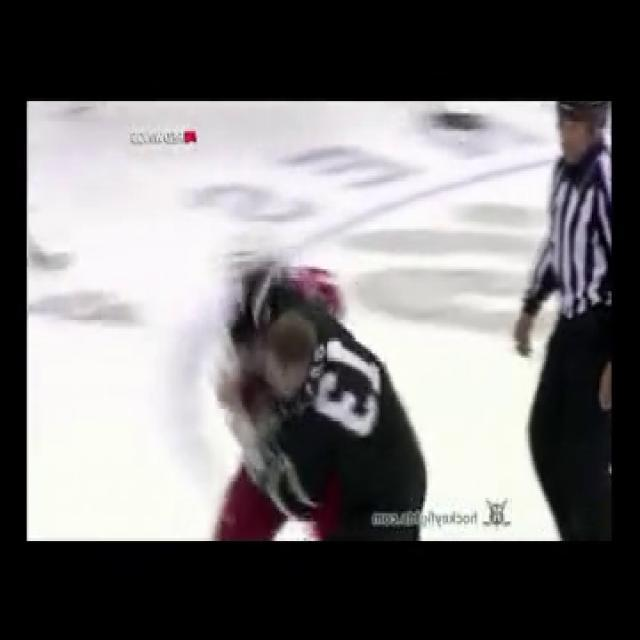non-violence: (516, 98, 618, 542)
violence: (216, 259, 428, 541)
